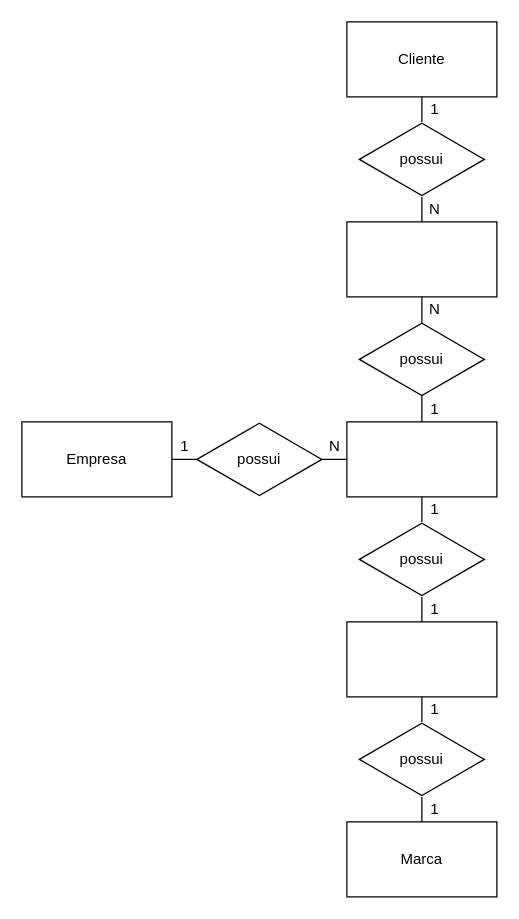
This 519x919 diagram has some shape labels left out. The shapes that lost their labels are listed below. From the top down, each one's centre as x and y in pixels, then its label:
At point (421, 259): "Aluguel".
At point (421, 459): "Veículo".
At point (421, 659): "Modelo".
